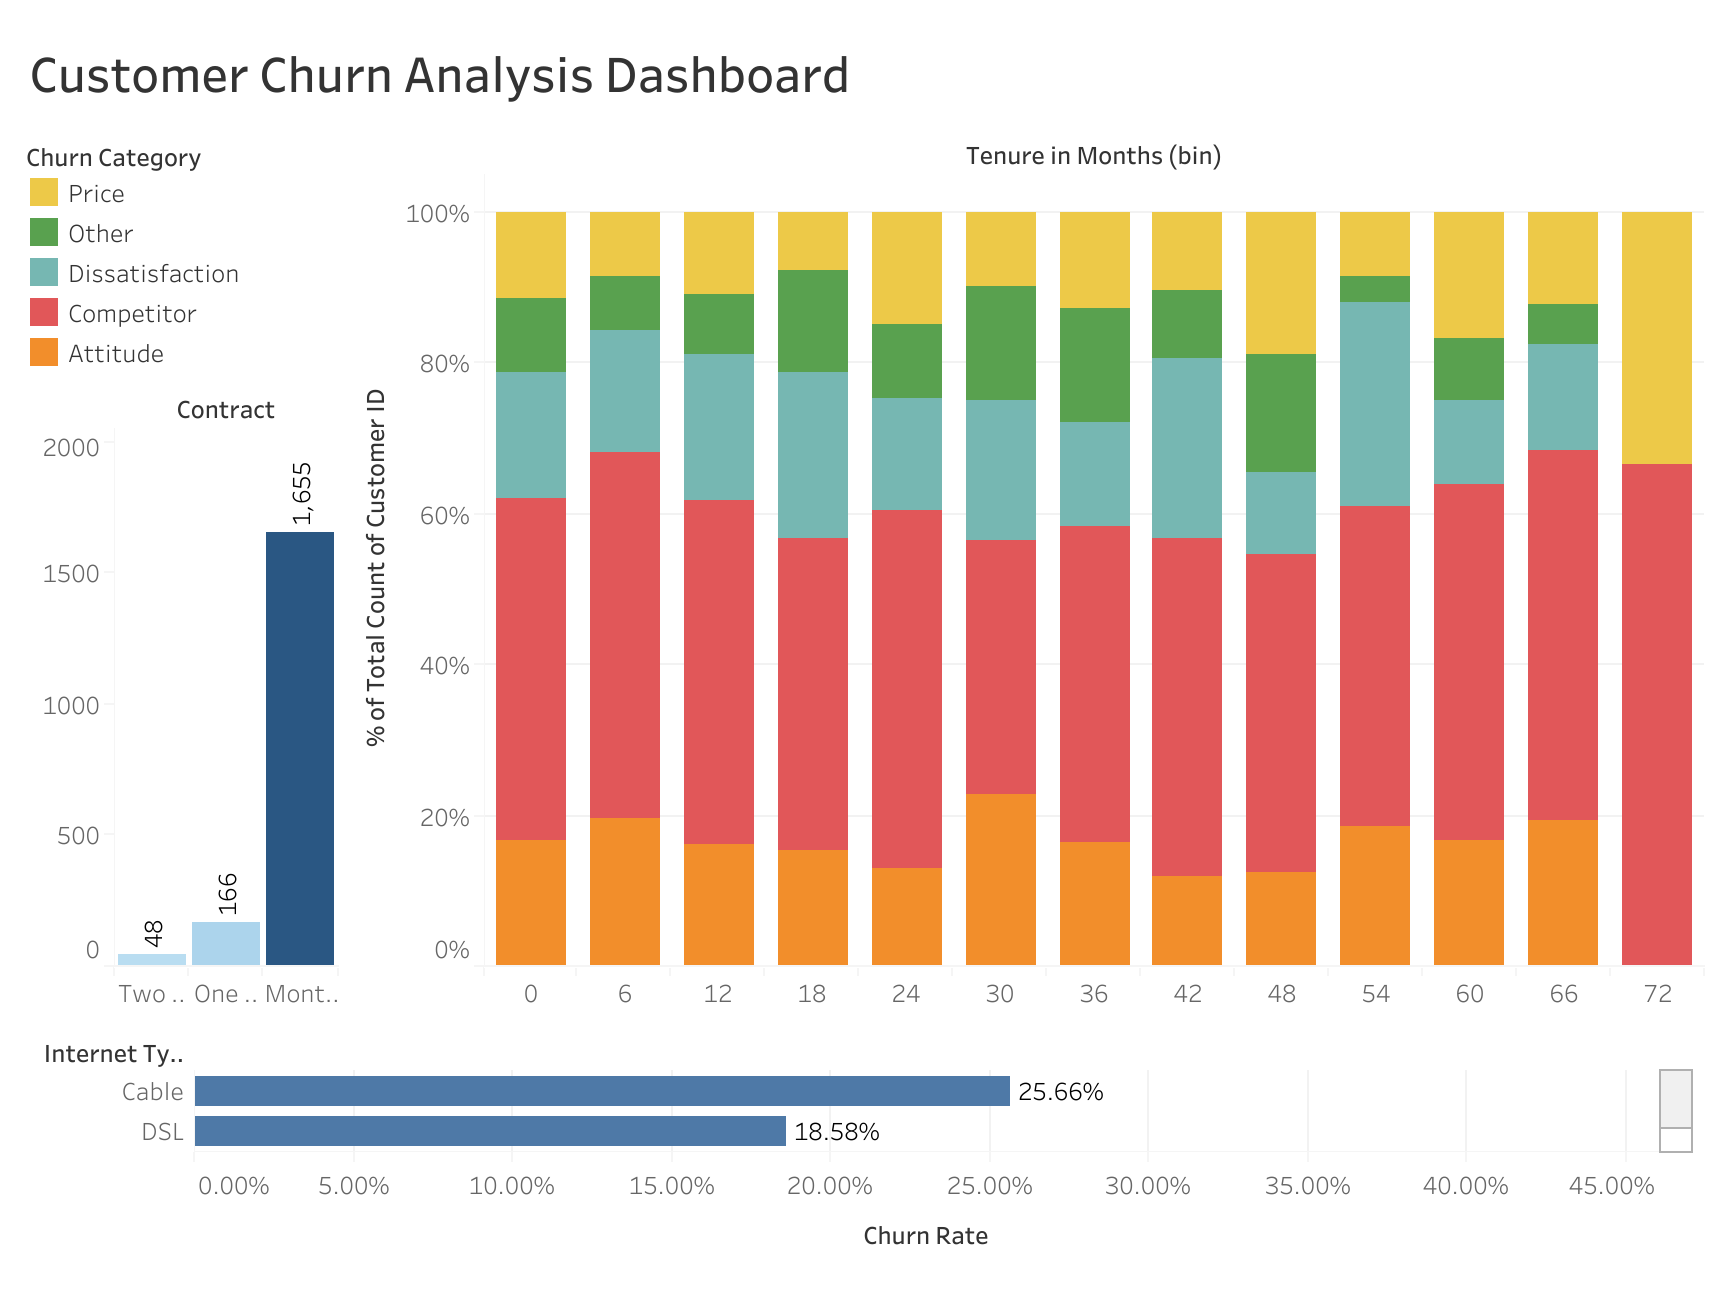

This screenshot's page, from the dashboard's own definition file:
{"tool":"tableau","page":{"name":"Dashboard 2","canvas":[1000,1000],"units":"permille","ordinal":0},"visuals":[{"type":"title","box":[6.4,11.2,987.2,76.8]},{"type":"legend","title":"Sheet 7","param":"[federated.1inlfbf0imyzc11447yyr0vh42zn].[none:Churn Category:nk]","box":[6.4,88,193.7,176]},{"type":"worksheet","title":"Sheet 7","mark":"Automatic","cols":["Tenure in Months (bin)"],"box":[200.1,88,793.5,695.5]},{"type":"worksheet","title":"Sheet 4","mark":"Automatic","rows":["Calculation_3894880385605633"],"cols":["Contract"],"box":[6.4,263.9,193.7,519.6]},{"type":"worksheet","title":"Sheet 5","mark":"Automatic","rows":["Internet Type"],"cols":["Calculation_3894880386428931"],"box":[6.4,783.5,987.2,205.3]}]}

Visuals, with their boxes on the dashboard's canvas, which has no fixed pixel size, in thousandths of its width and height (x1, y1, x2, y2). These are canvas units, not pixel positions in the 1726x1298 screenshot, which may show the page scaled, cropped or inside an application window:
title: 6:11:994:88
"Sheet 7" legend: 6:88:200:264
"Sheet 7" worksheet: 200:88:994:784
"Sheet 4" worksheet: 6:264:200:784
"Sheet 5" worksheet: 6:784:994:989
